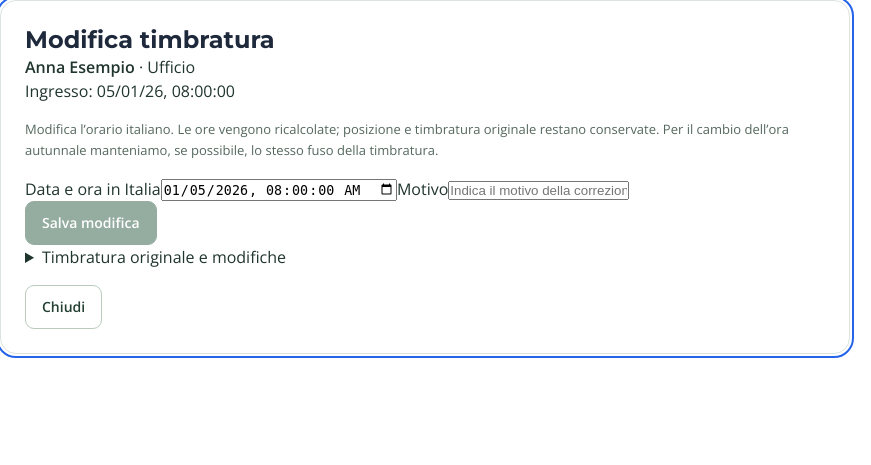
Test case: a conflict retains the draft without reporting success or deleting anything
Type "Correzione orario" into the field labelled "Motivo" at (539, 190), box [448,181,629,200]
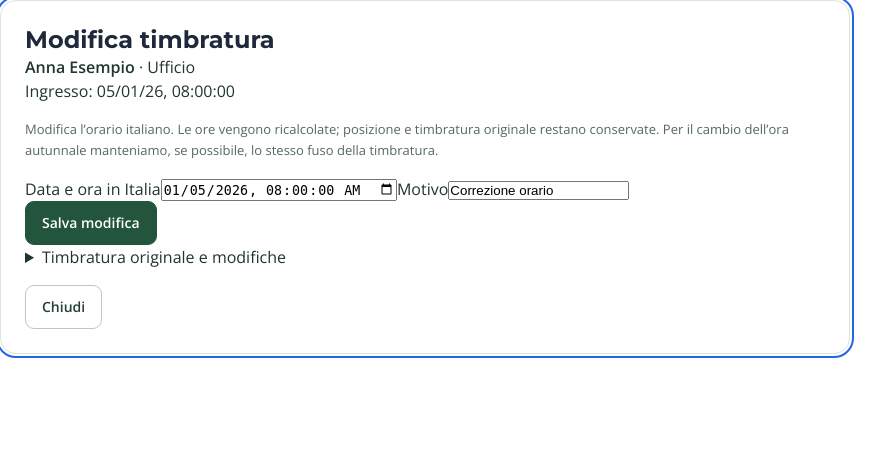
Click the button "Salva modifica" at (91, 223), box [25,201,156,245]
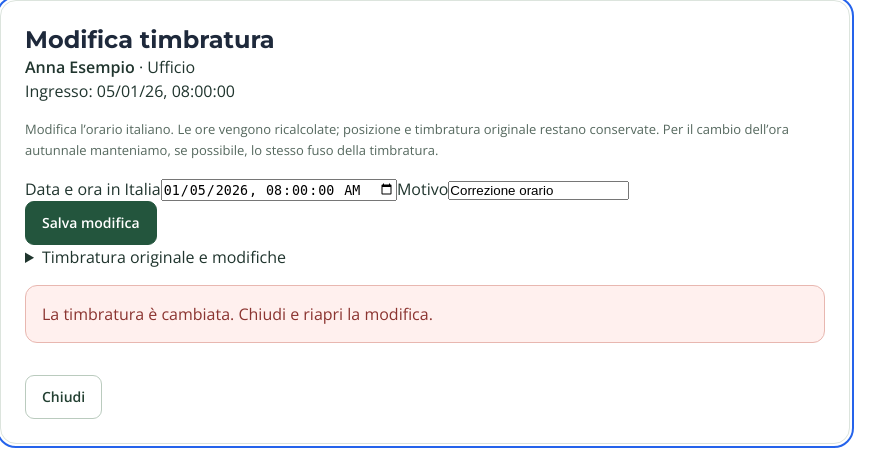
expect the message shows "La timbratura è cambiata": met, box [42,303,433,325]
